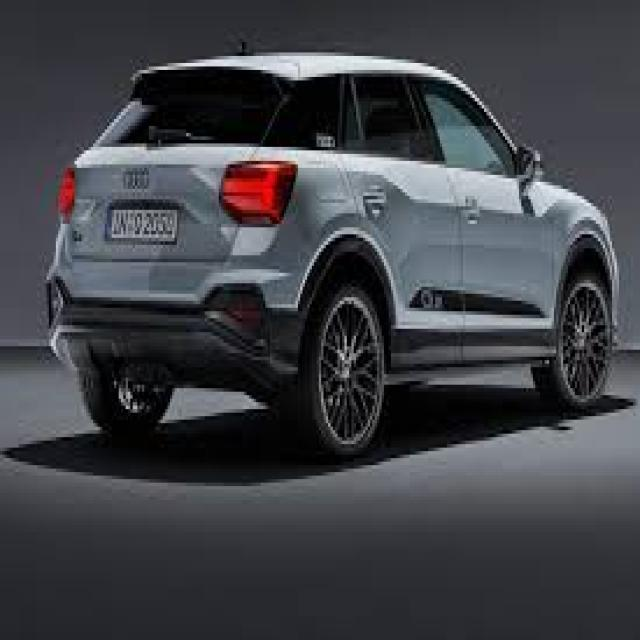SUV: (52, 39, 632, 446)
